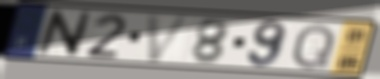2: (84, 12, 128, 60)
8: (190, 18, 233, 65)
9: (246, 19, 291, 70)
N: (34, 9, 94, 59)
Q: (289, 23, 338, 71)
V: (145, 13, 194, 63)
